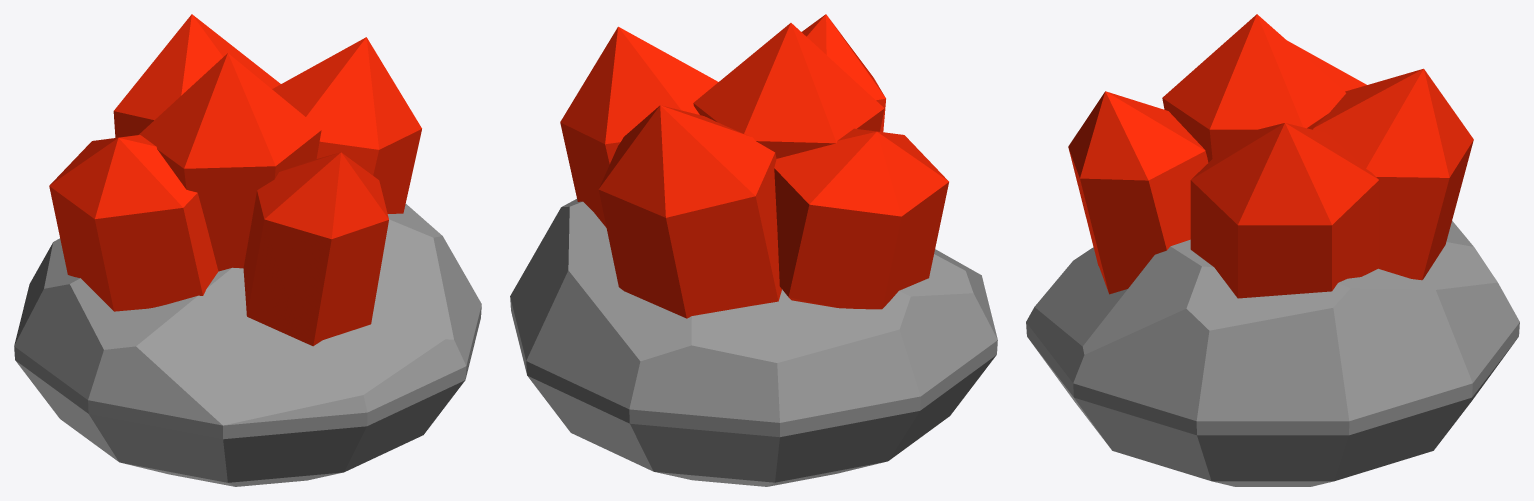
The model's file is redstone.fbx.
The picture shows the model from 3 angles, left to right: view 1: azimuth 30°, elevation 25°; view 2: azimuth 150°, elevation 25°; view 3: azimuth 270°, elevation 25°; orthographic projection. The views are drawn at different scales.
Parts seen in each view (by area): view 1: stone, ore; view 2: stone, ore; view 3: ore, stone.
Boxes of the visible parts, x1,y1,x2,y2 form: stone: (49,14,421,346); ore: (14,204,481,486); stone: (560,14,948,318); ore: (510,199,997,486); ore: (1026,220,1519,486); stone: (1068,14,1473,298).
Size of the model in its own units: 151 by 145 by 159.
